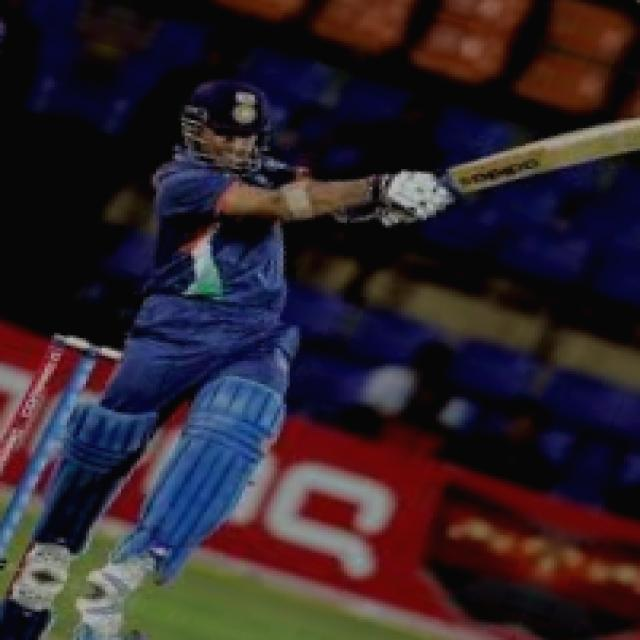toe: (592, 118, 640, 161)
